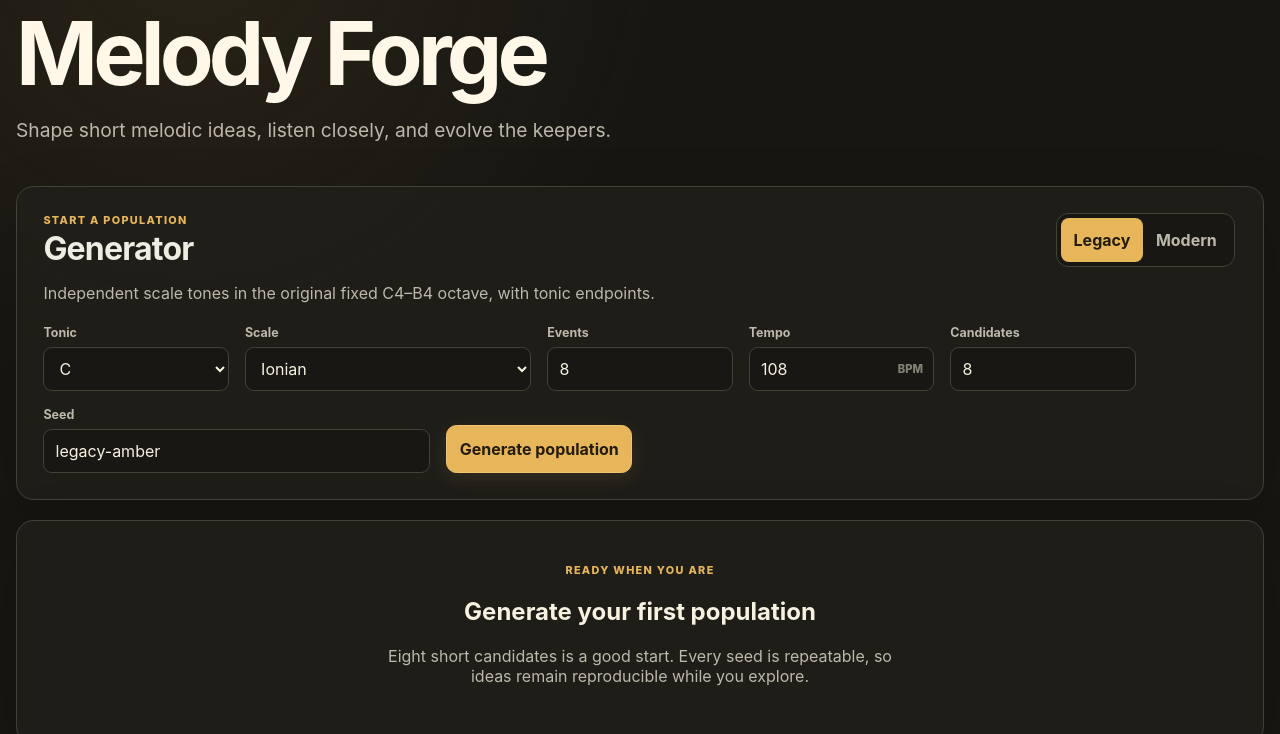
Test: essential browser workspace › requires room for a descendant when both selected parents are retained
Click the button "Generate population".
click(539, 449)  # box [446,425,632,473]
(page scrolled)
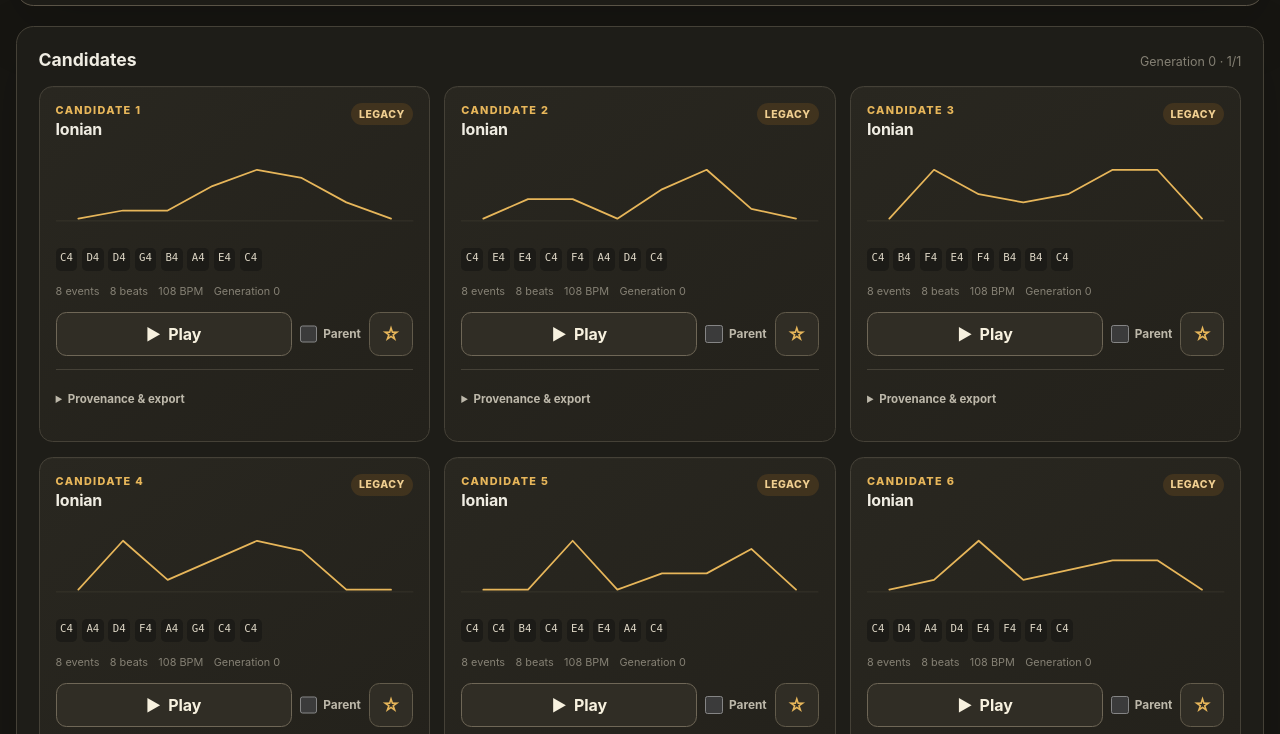
Click the 1st checkbox labelled "Parent".
click(308, 334)  # box [300,326,317,343]
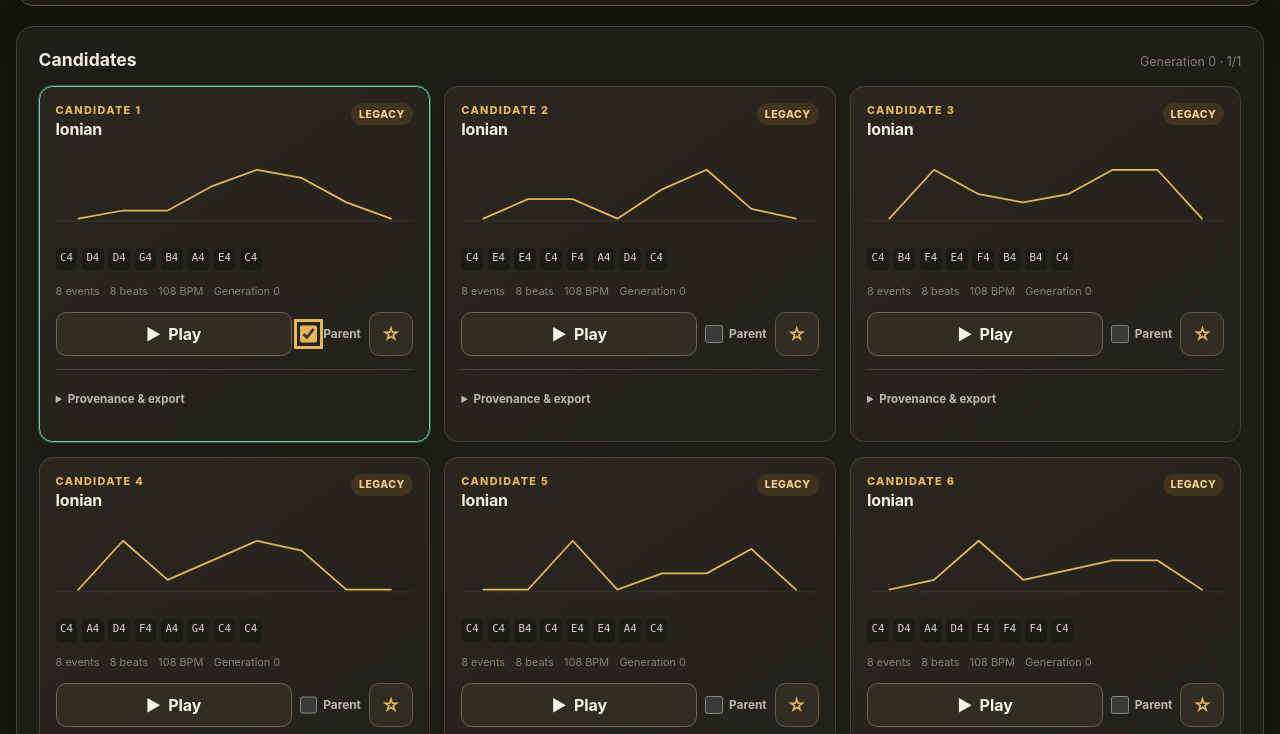
Click the 2nd checkbox labelled "Parent".
click(714, 334)  # box [705,326,723,343]
(page scrolled)
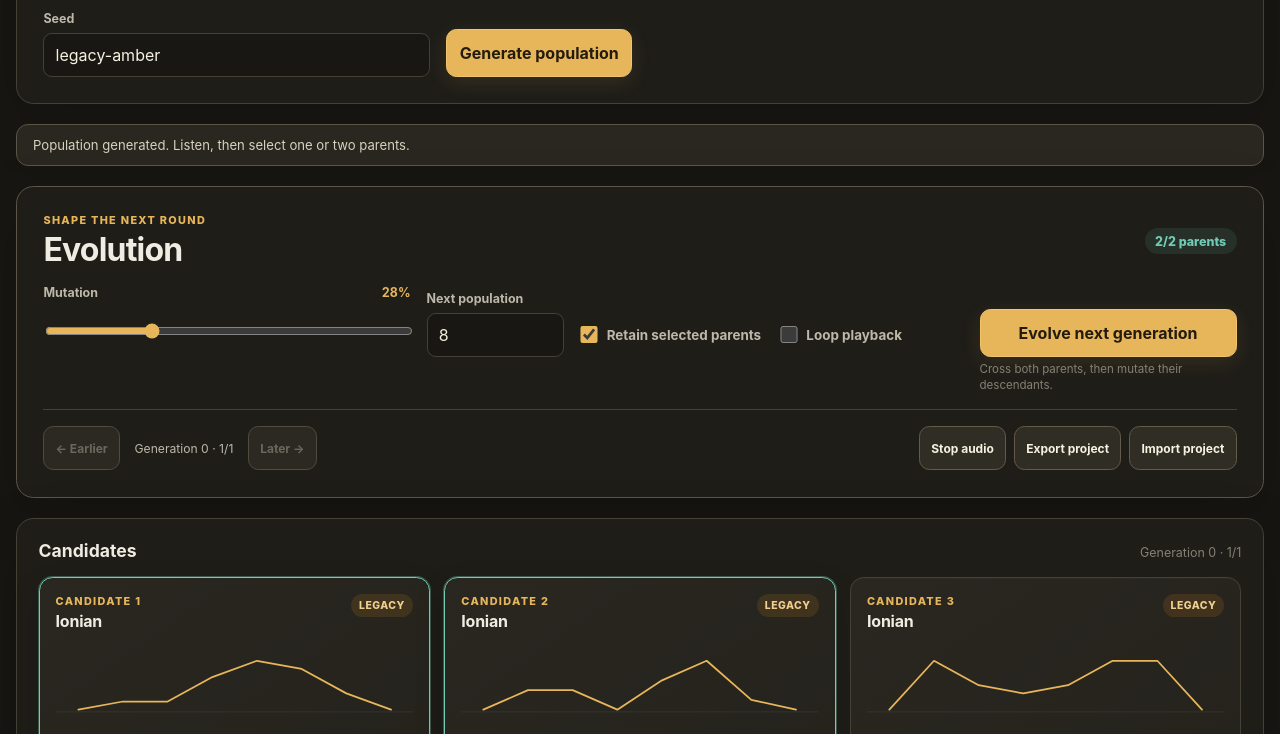
Replace the text in the number field labelled "Next population" with "2" at (495, 335), box [427,313,564,357]
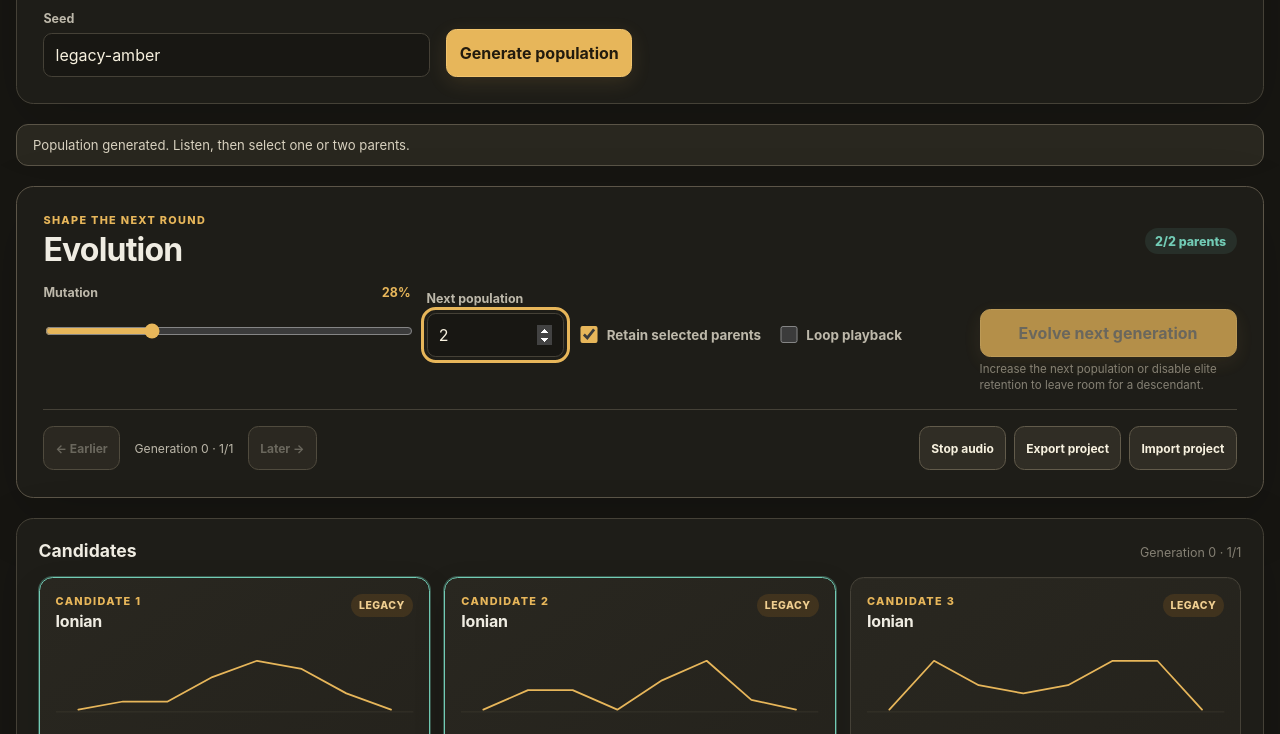
Check: the button "Evolve next generation" is disabled, box [980,309,1237,357]
Check: the text "leave room for a descendant" is shown, box [980,362,1217,392]
Click the checkbox labelled "Retain selected parents".
click(589, 335)  # box [580,326,598,343]
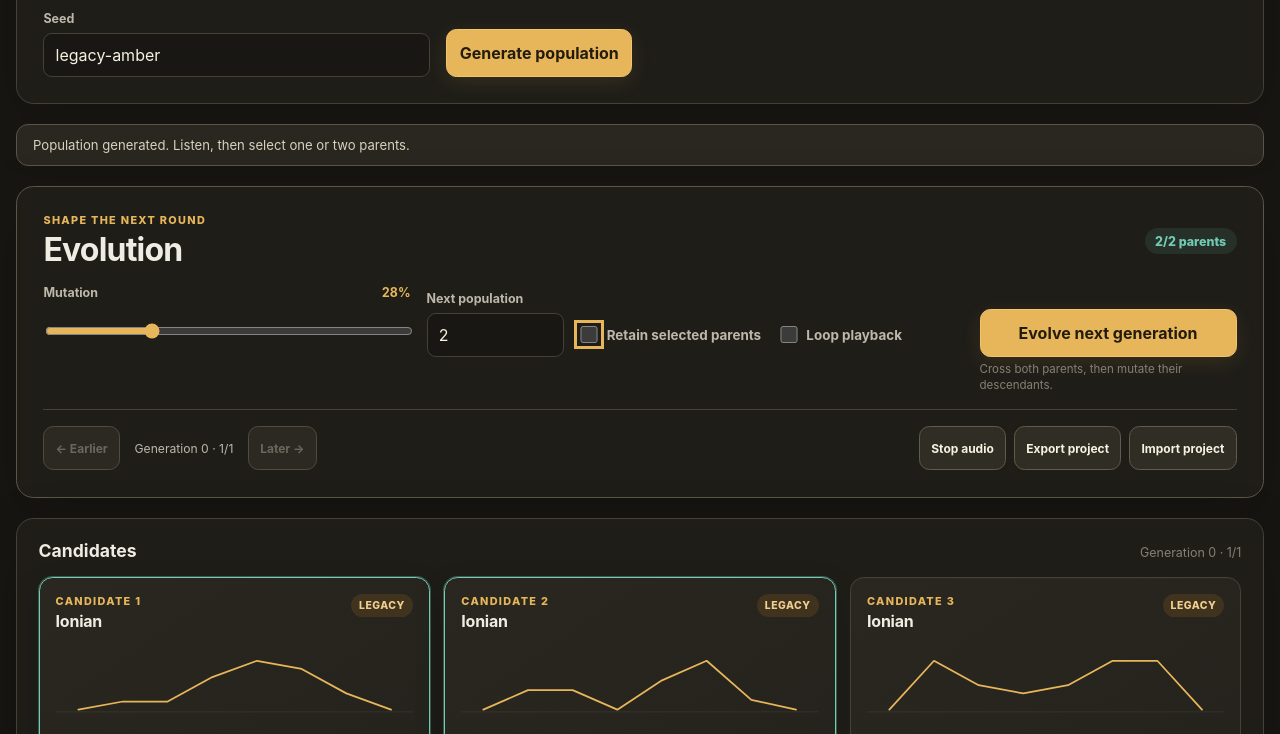
Check: the button "Evolve next generation" is enabled, box [980,309,1237,357]
